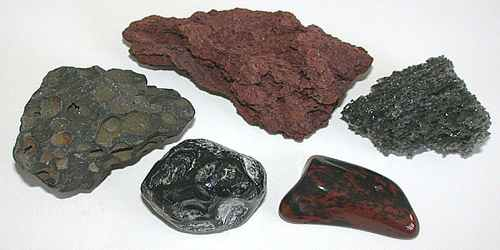volcanic_rock: (7, 64, 197, 207)
